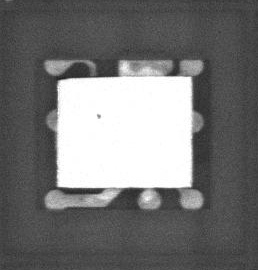DIE_INK: (90, 117, 97, 126)
